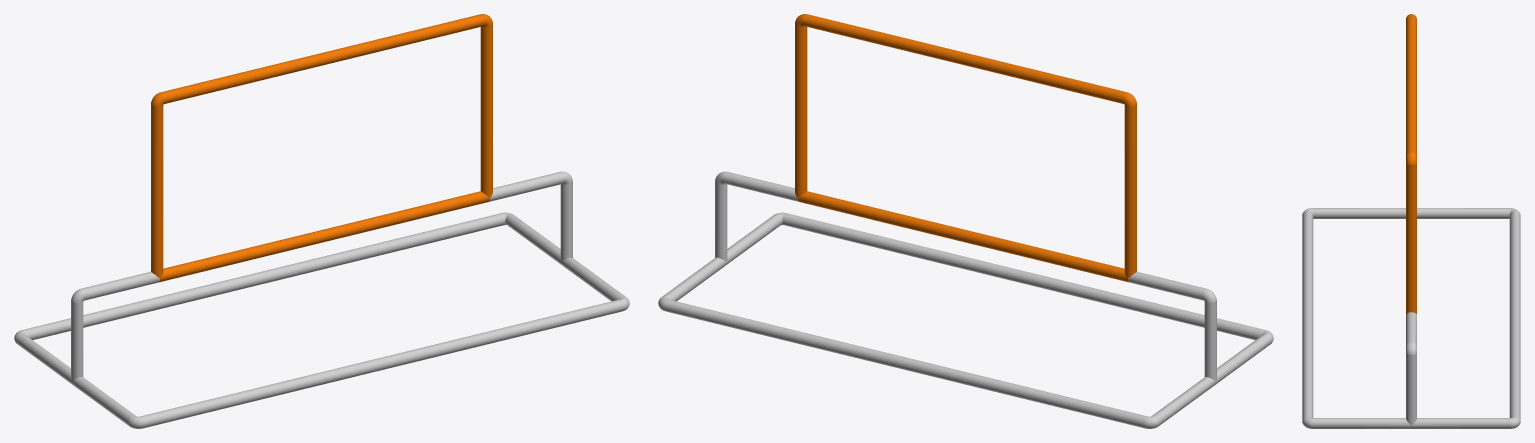
File: Dikdortgen.obj
3 views of the same model, side by side, from view 1: azimuth 30°, elevation 25°; view 2: azimuth 150°, elevation 25°; view 3: azimuth 270°, elevation 25° (orthographic). The views are drawn at different scales.
Visible parts, largest first — view 1: Dikdortgen; view 2: Dikdortgen; view 3: Dikdortgen.
Part boxes in pixels (x1=…): Dikdortgen: x1=14, y1=14, x2=629, y2=428; Dikdortgen: x1=658, y1=14, x2=1273, y2=428; Dikdortgen: x1=1302, y1=14, x2=1520, y2=428.
Bounding box in the file's own units: 1.57 × 0.8168 × 0.674.
